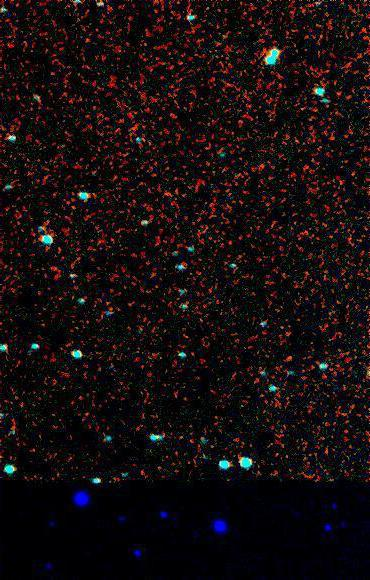star: (272, 340, 302, 370)
